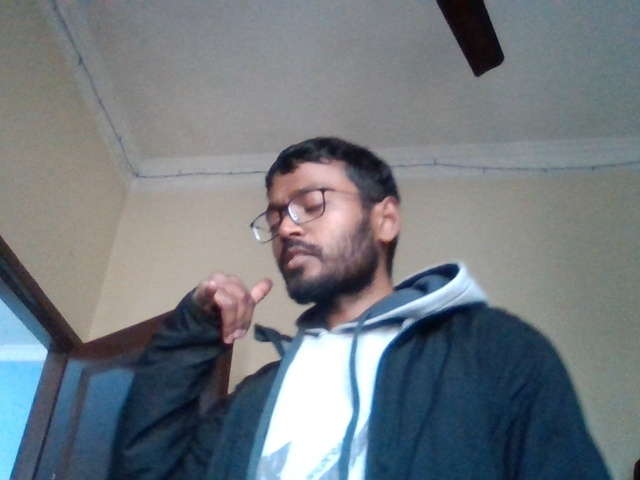telephone: (194, 261, 276, 347)
